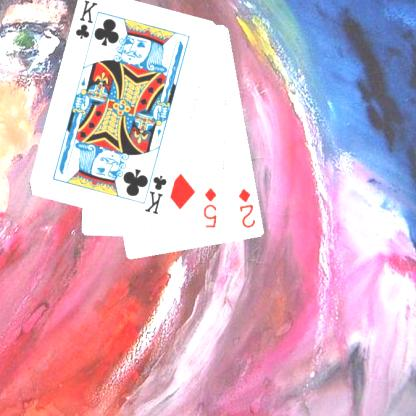2D: (236, 186, 257, 230)
5D: (201, 185, 219, 229)
KC: (140, 166, 168, 216), (73, 0, 102, 48)
